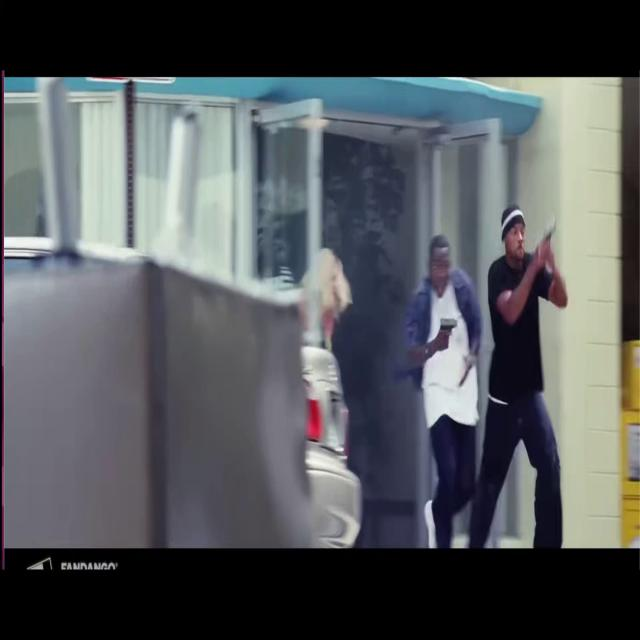weapons: (534, 206, 562, 281), (434, 310, 464, 360)
